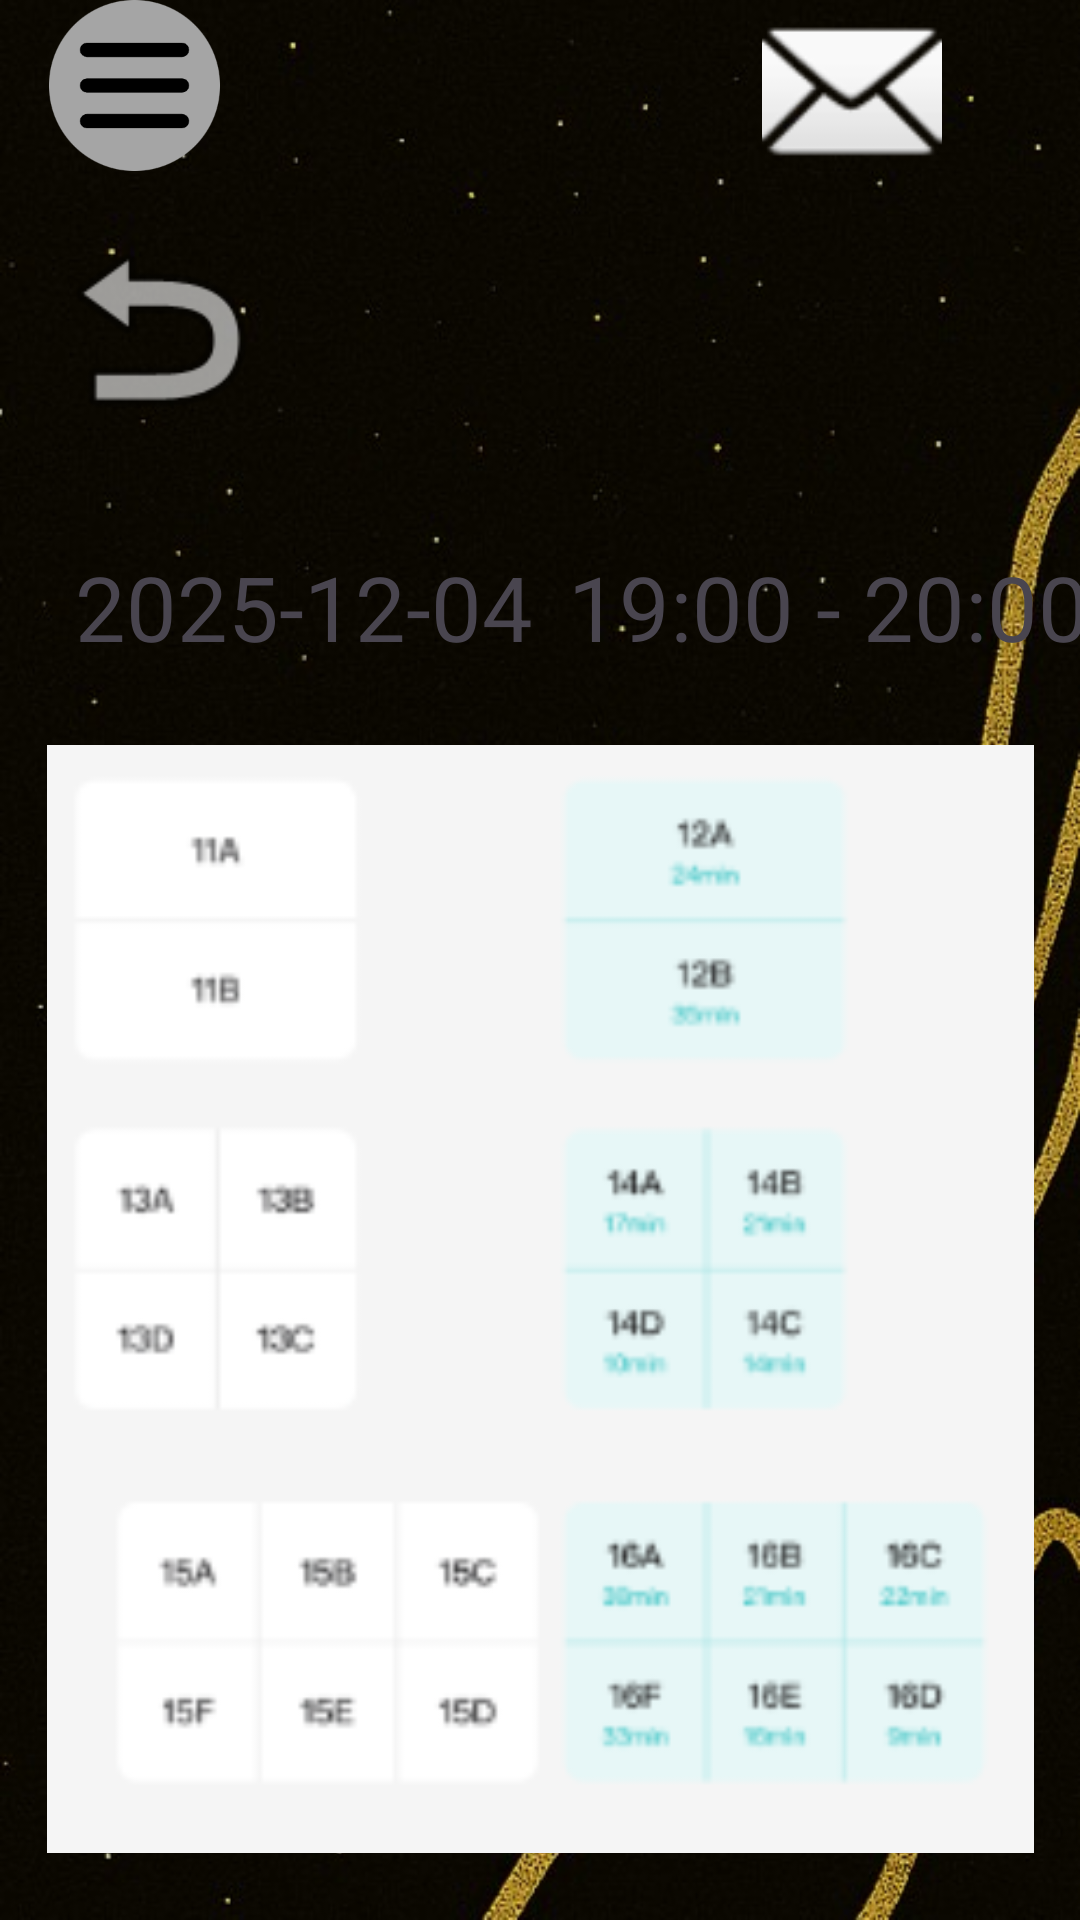

Where to tap for icons on this 1080 × 1920 app screen, as [x,y]:
burger menu: [134,85]
email: [846,103]
revert: [164,335]
